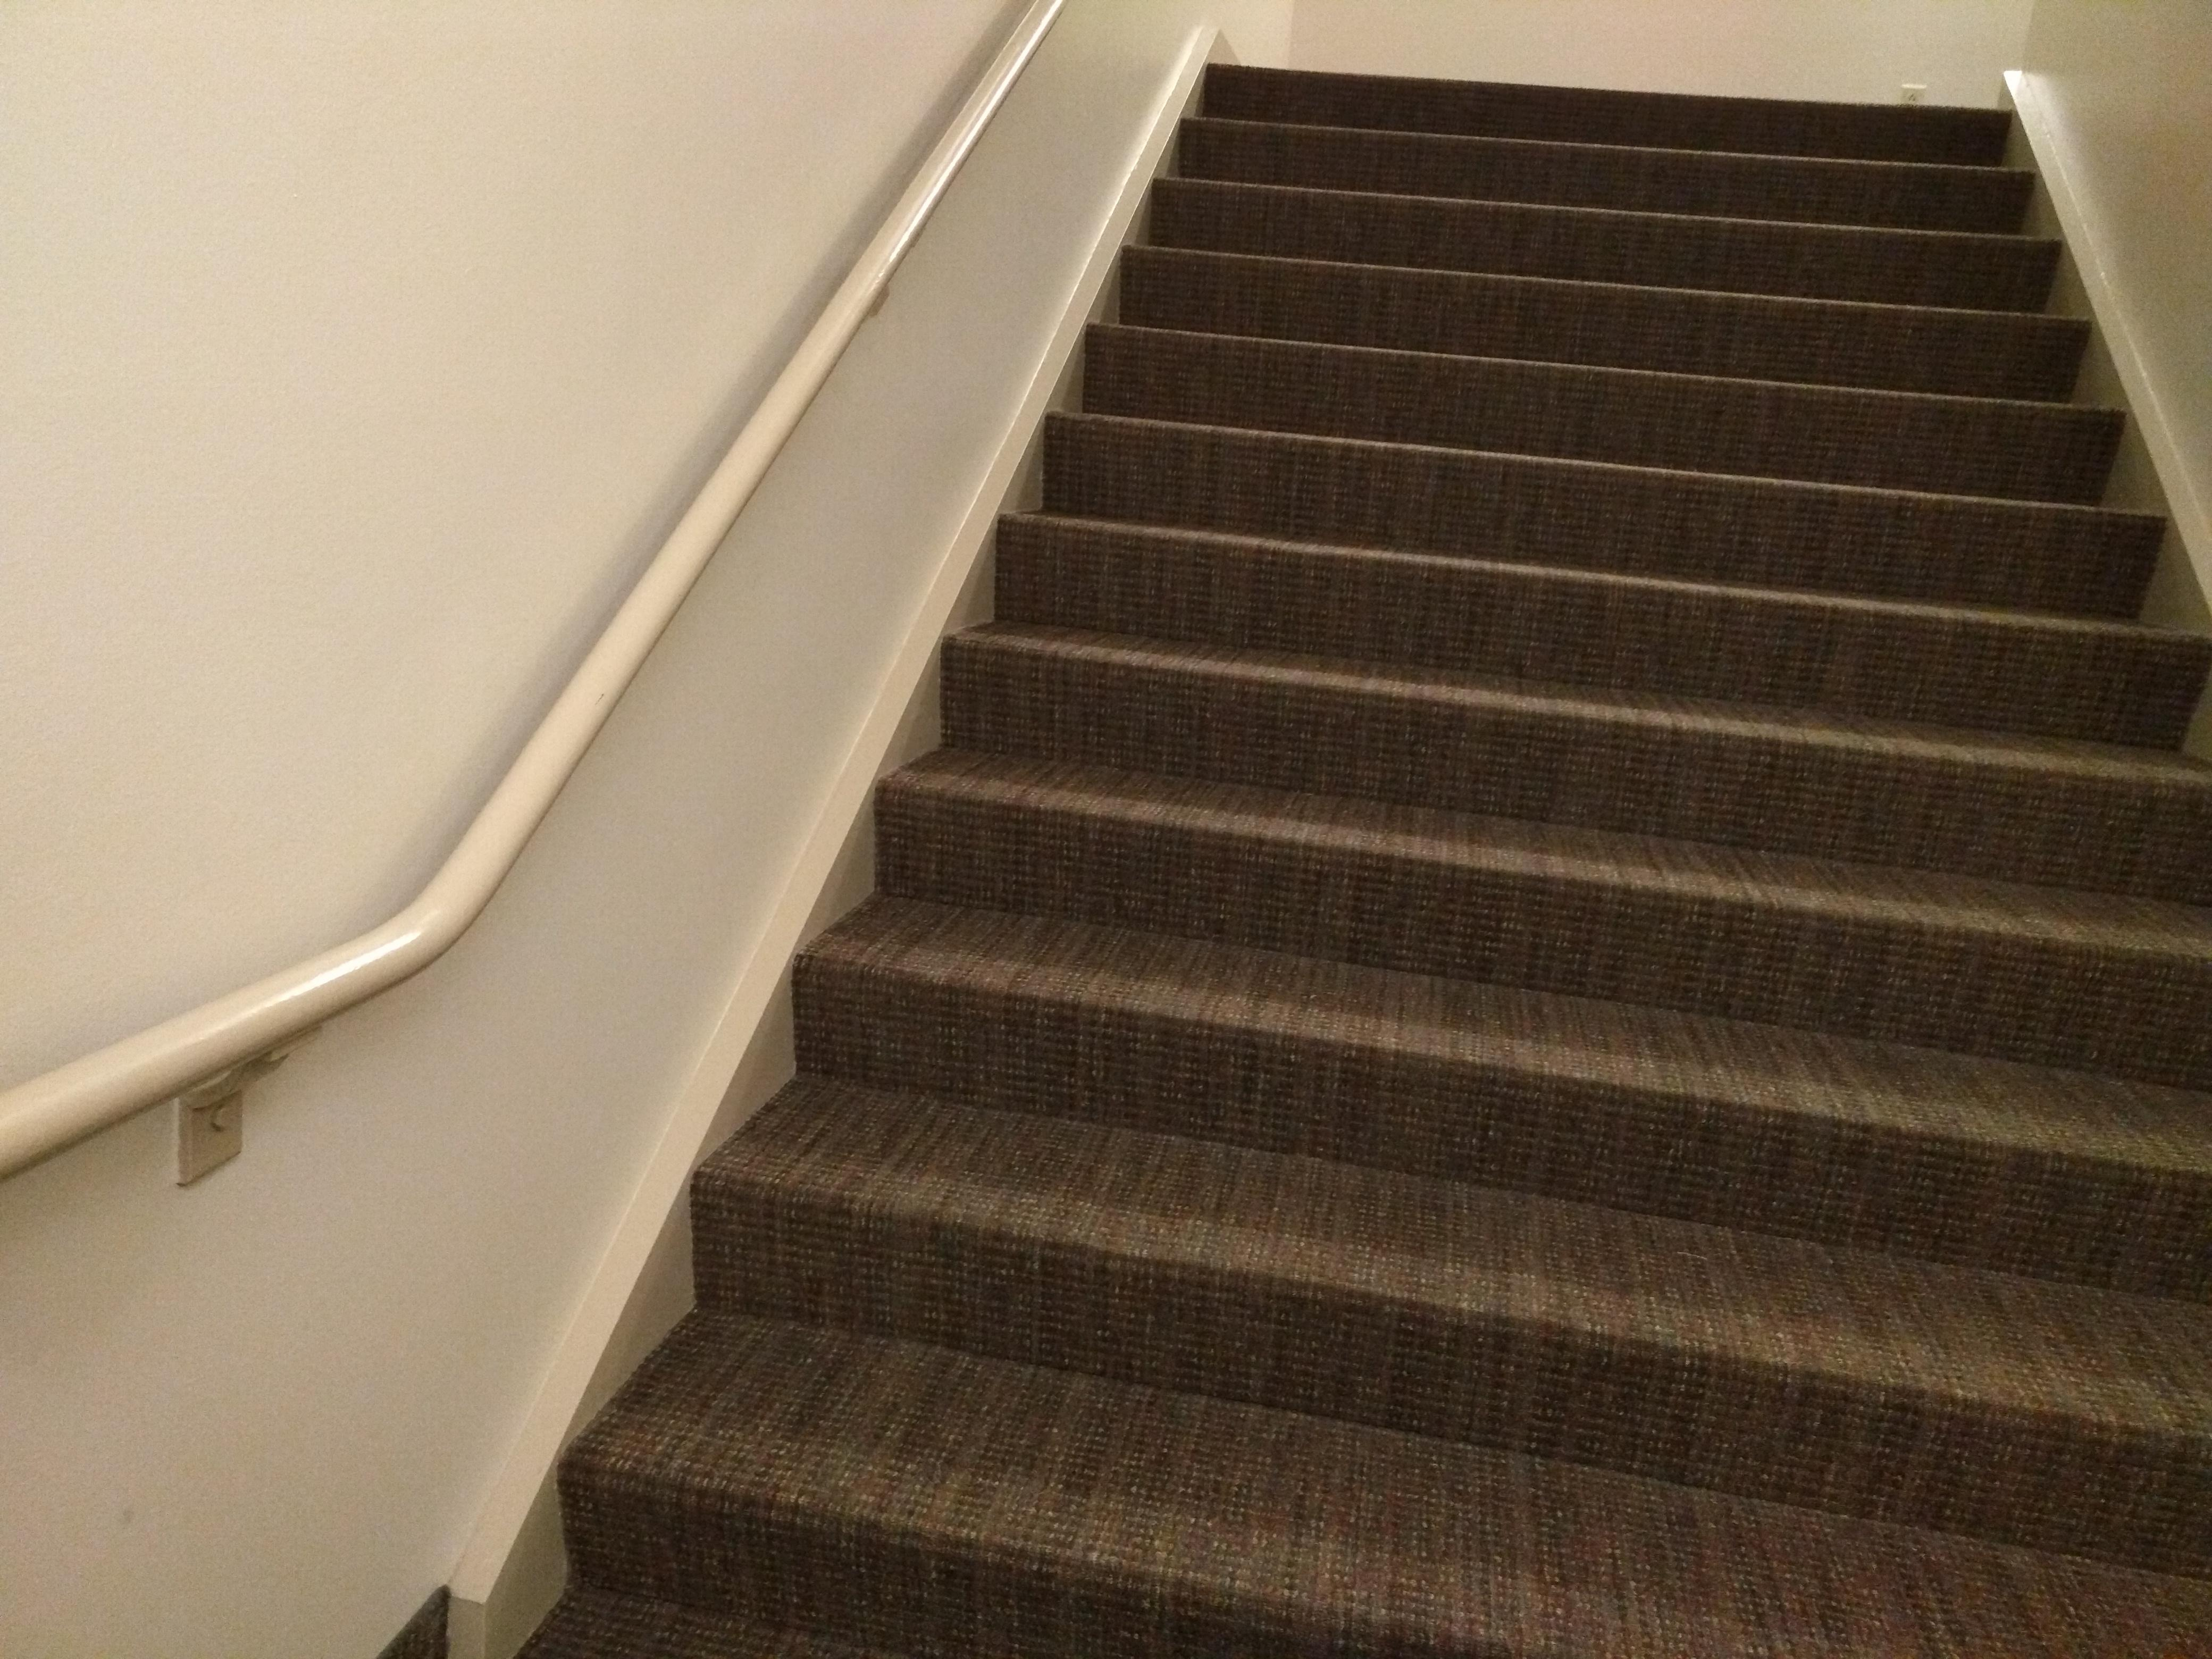stairs_up: (597, 59, 2212, 1650)
